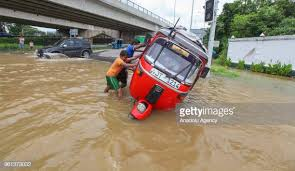tuk tuk: (128, 24, 210, 124)
